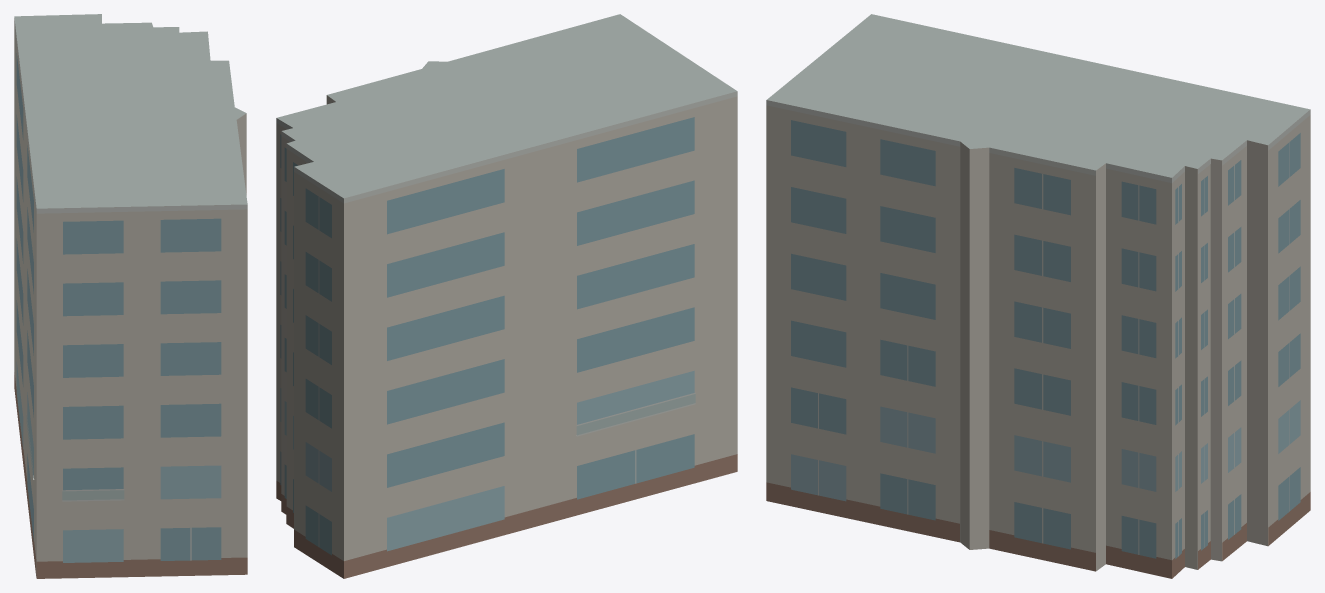
Rendered from survey-upis-32945694.glb.
3 renders of one model, left to right at view 1: azimuth 30°, elevation 25°; view 2: azimuth 150°, elevation 25°; view 3: azimuth 270°, elevation 25°, orthographic. The views are drawn at different scales.
Parts seen in each view (by area): view 1: survey-upis-32945694.tmp; view 2: survey-upis-32945694.tmp; view 3: survey-upis-32945694.tmp.
Part boxes in pixels (<box>): survey-upis-32945694.tmp: <box>14,14,247,578</box>; survey-upis-32945694.tmp: <box>276,14,737,578</box>; survey-upis-32945694.tmp: <box>766,14,1310,578</box>.
Bounding box in the file's own units: 15.96 × 18.2 × 22.39.
